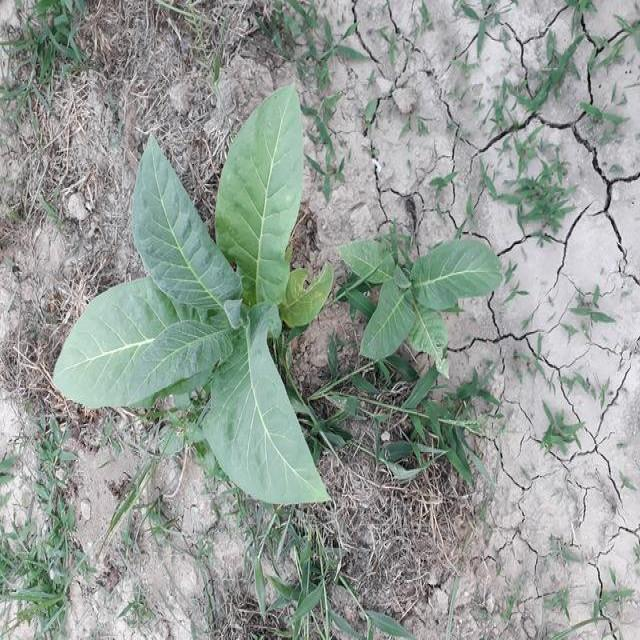crop: (55, 87, 341, 519)
